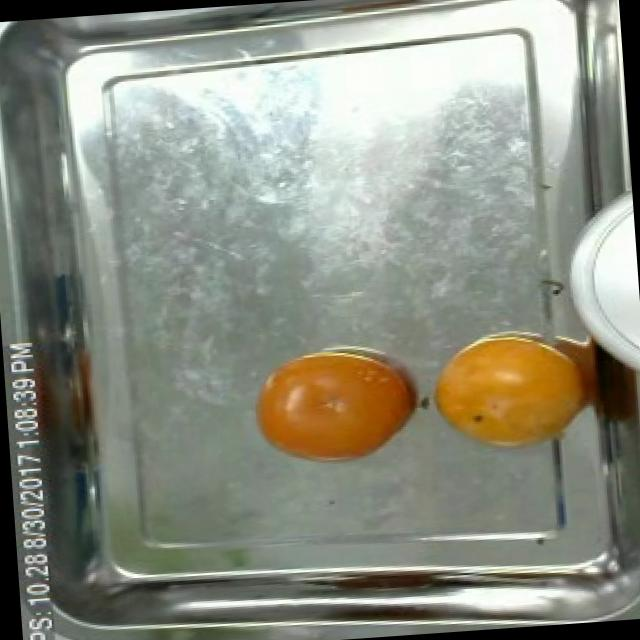Fruit: (415, 310, 611, 467), (240, 342, 424, 476)
